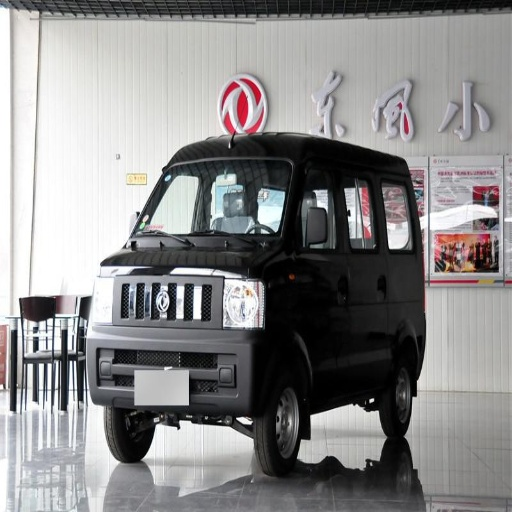tailgate: (96, 266, 214, 325)
trunk: (333, 252, 431, 365), (128, 231, 231, 302), (102, 326, 186, 351)
